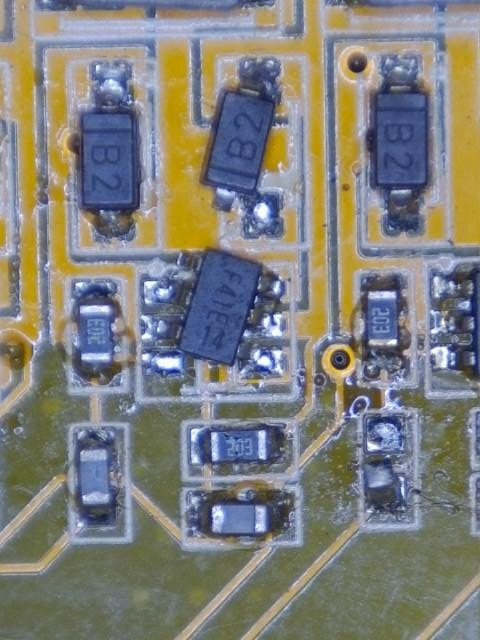pcb_defect: (140, 248, 286, 376), (199, 58, 282, 237), (363, 415, 406, 512)
